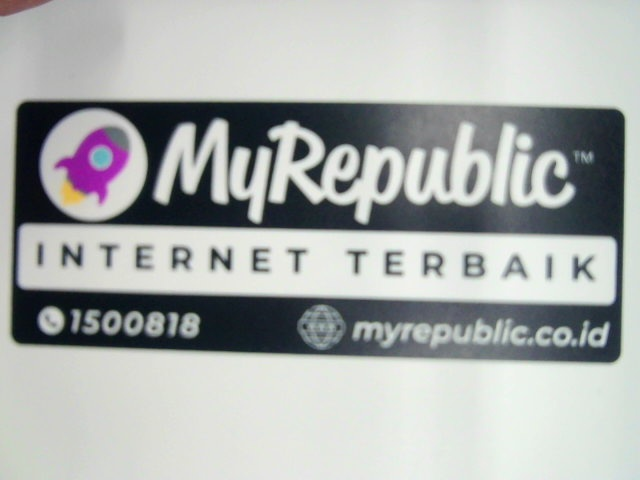BD_MyRepublic: (12, 93, 632, 368)
